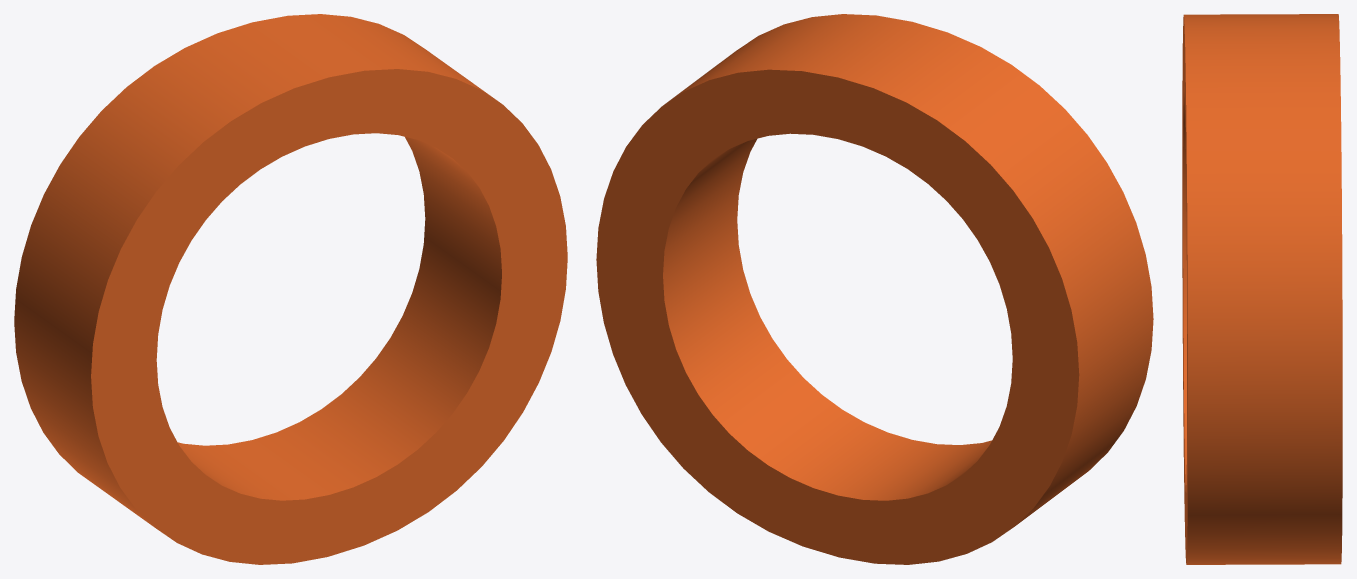
File: text.001_material.353_0_lev1.glb
3 renders of one model, left to right at view 1: azimuth 30°, elevation 25°; view 2: azimuth 150°, elevation 25°; view 3: azimuth 270°, elevation 25°, orthographic. The views are drawn at different scales.
Parts seen in each view (by area): view 1: text.001_material.353_0_lev1; view 2: text.001_material.353_0_lev1; view 3: text.001_material.353_0_lev1.
Boxes of the visible parts, x1,y1,x2,y2 form: text.001_material.353_0_lev1: (14, 14, 567, 564); text.001_material.353_0_lev1: (596, 14, 1153, 564); text.001_material.353_0_lev1: (1182, 14, 1342, 564).
Bounding box in the file's own units: 0.068 × 0.0648 × 0.0192.
